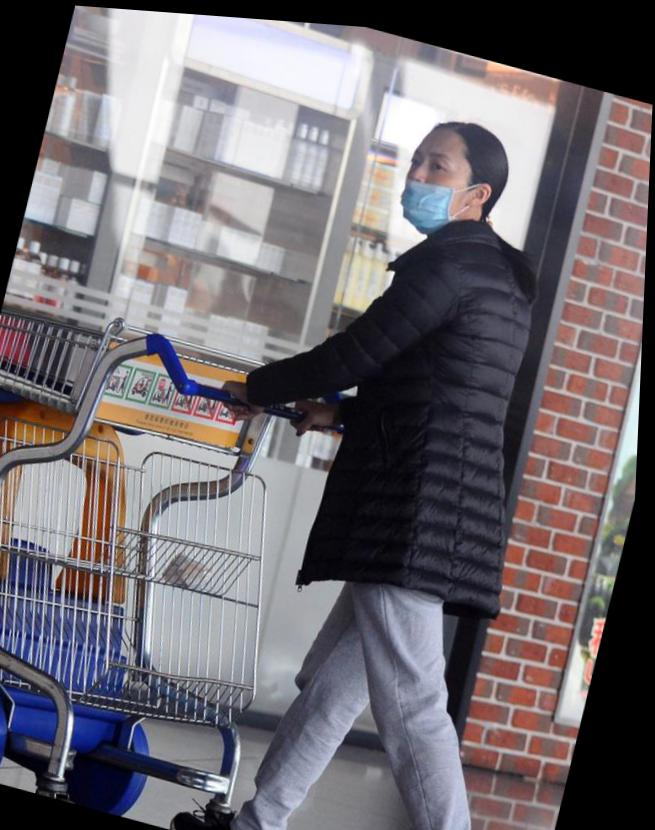WRONG: (396, 123, 473, 232)
